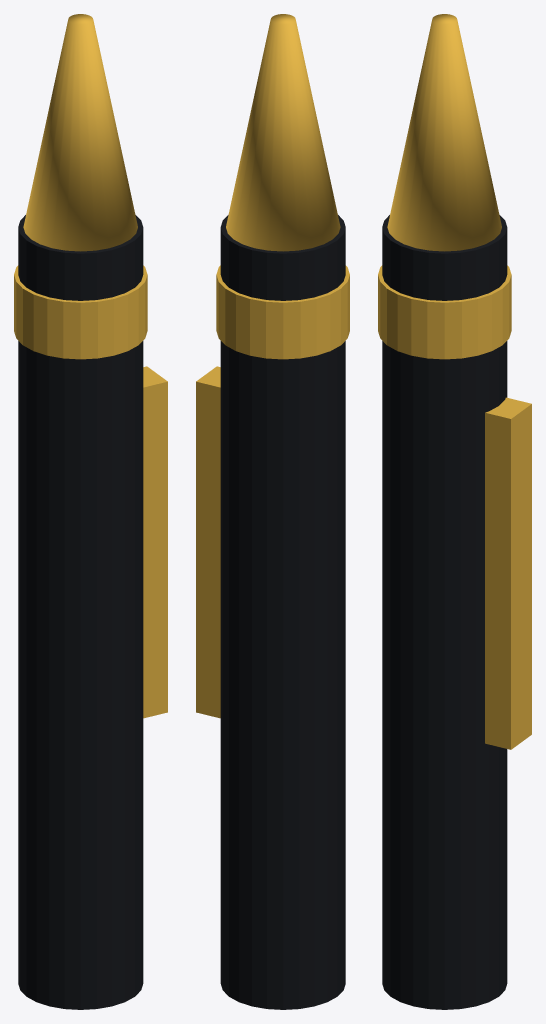
File: pluma.glb
3 renders of one model, left to right at view 1: azimuth 30°, elevation 25°; view 2: azimuth 150°, elevation 25°; view 3: azimuth 330°, elevation 25°, orthographic.
Visible parts, largest first — view 1: Cylinder, Cone, Cube, Cylinder.001; view 2: Cylinder, Cone, Cube, Cylinder.001; view 3: Cylinder, Cone, Cube, Cylinder.001.
Part boxes in pixels (x1,y1,x2,y2): Cylinder: [18, 215, 143, 1009]; Cone: [23, 14, 137, 251]; Cube: [143, 366, 167, 718]; Cylinder.001: [14, 265, 147, 359]; Cylinder: [220, 215, 345, 1009]; Cone: [226, 14, 340, 251]; Cube: [196, 366, 220, 718]; Cylinder.001: [216, 265, 349, 359]; Cylinder: [382, 215, 507, 1009]; Cone: [387, 14, 501, 251]; Cube: [485, 397, 531, 749]; Cylinder.001: [378, 265, 511, 359].
Size of the model in its own units: 0.149 by 1.02 by 0.128.
